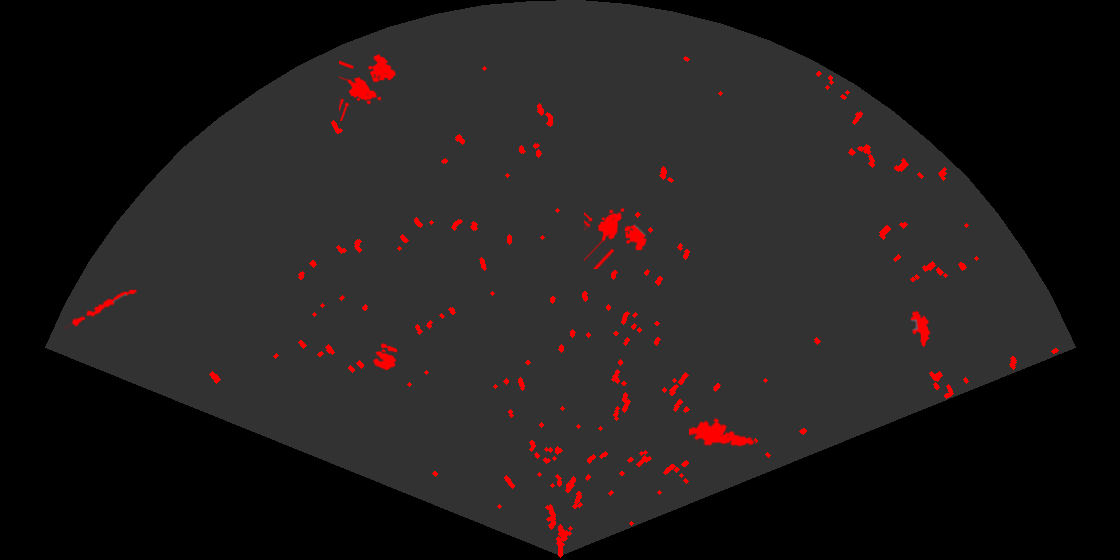AUV: (909, 309, 932, 349)
ball: (371, 342, 399, 372)
cage: (584, 206, 649, 269), (339, 52, 397, 121)
chain: (64, 288, 139, 331)
frogman: (689, 416, 756, 448)
